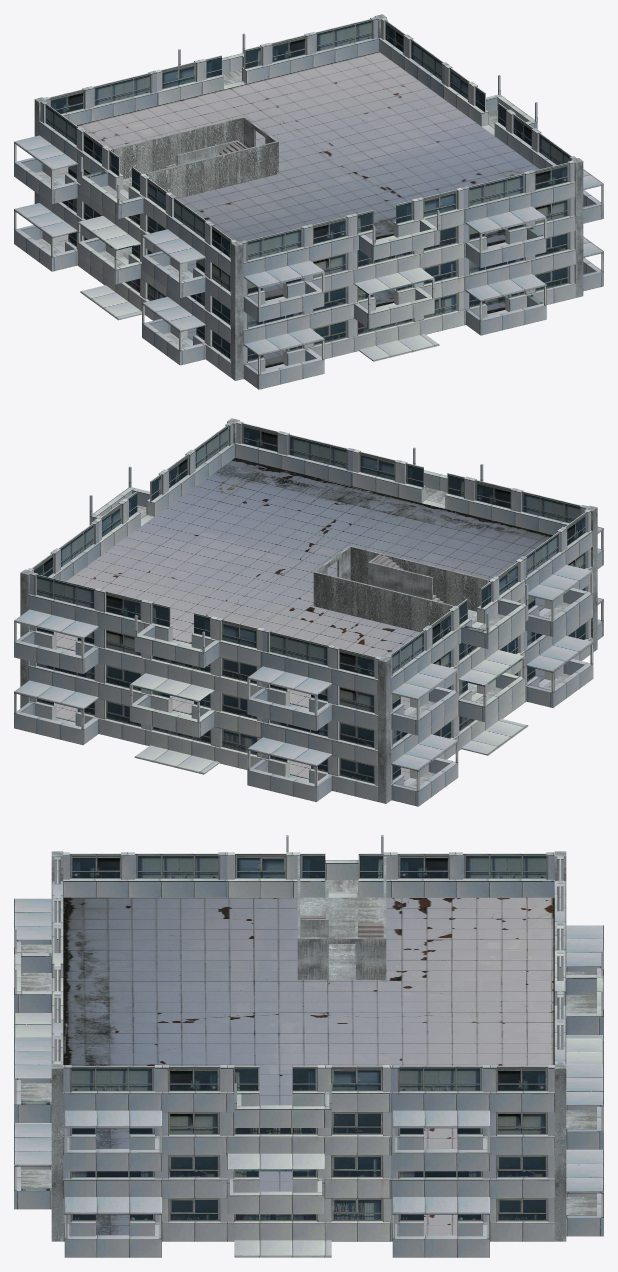
Rendered from BagSS06mid_high.fbx.
The picture shows the model from 3 angles, top to bottom: view 1: azimuth 30°, elevation 25°; view 2: azimuth 150°, elevation 25°; view 3: azimuth 270°, elevation 25°; orthographic projection. The views are drawn at different scales.
Parts seen in each view (by area): view 1: midMain700, midFloors700, midWalls700, midBeams700, midBalcFloors700; view 2: midMain700, midFloors700, midWalls700, midBeams700, midBalcFloors700; view 3: midMain700, midFloors700, midWalls700, midBeams700, midBalcFloors700.
Boxes of the visible parts, x1,y1,x2,y2 form: midMain700: [14, 17, 603, 389]; midFloors700: [59, 52, 539, 368]; midWalls700: [112, 116, 278, 259]; midBeams700: [34, 14, 583, 380]; midBalcFloors700: [35, 69, 497, 347]; midMain700: [14, 421, 603, 806]; midFloors700: [54, 457, 552, 781]; midWalls700: [313, 545, 488, 696]; midBeams700: [20, 418, 597, 803]; midBalcFloors700: [137, 487, 570, 788]; midMain700: [14, 835, 603, 1257]; midFloors700: [63, 897, 554, 1235]; midWalls700: [297, 856, 386, 979]; midBeams700: [51, 851, 566, 1241]; midBalcFloors700: [21, 880, 596, 1214].
Size of the model in its own units: 46.05 by 14.88 by 46.05.
